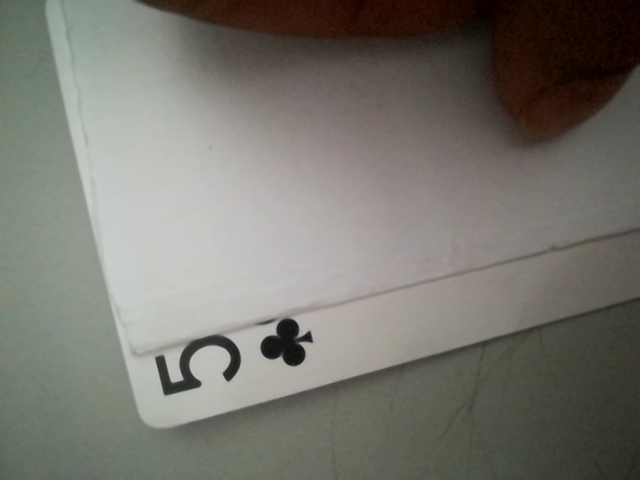mh 5: (144, 305, 323, 415)
